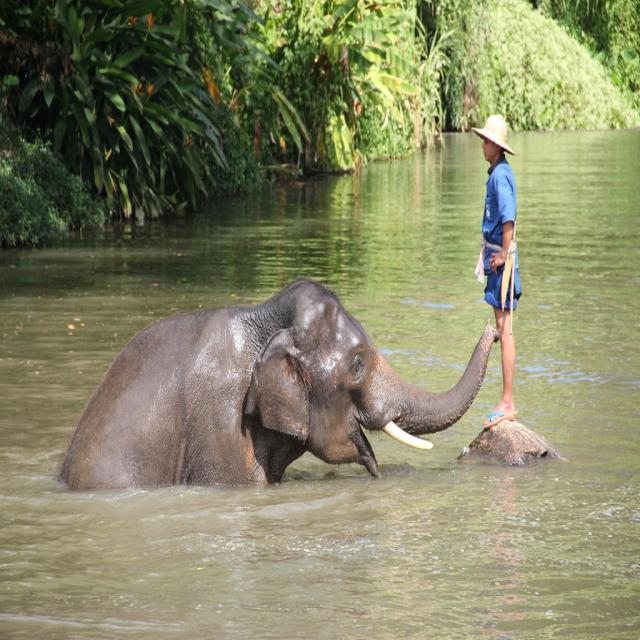elephant: (46, 268, 522, 500)
